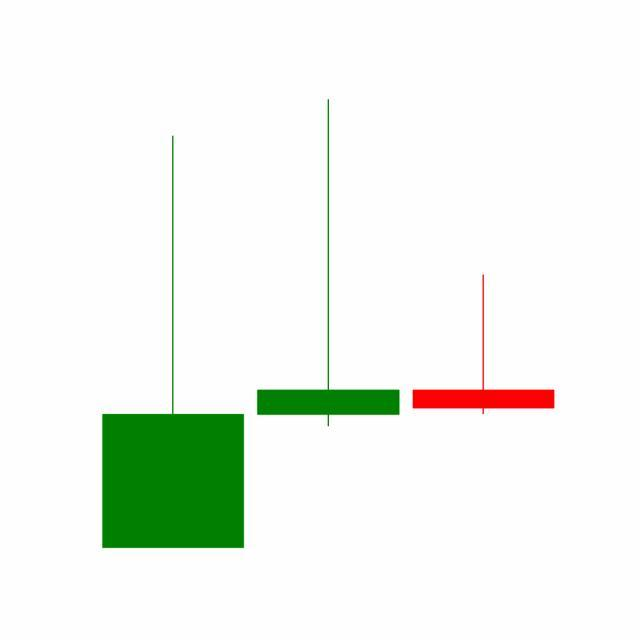Gravestone Doji: (250, 96, 407, 430)
